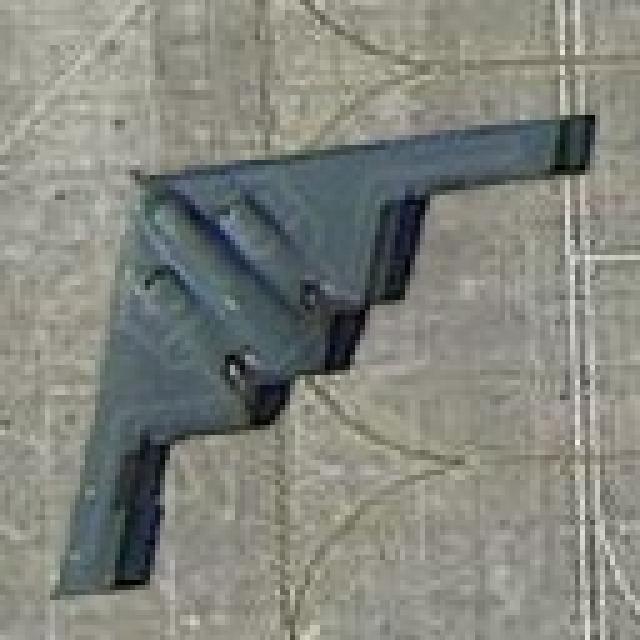B-2_TopDown: (45, 105, 595, 595)
